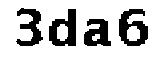3: (12, 4, 43, 50)
6: (115, 5, 151, 51)
a: (81, 16, 113, 48)
d: (46, 6, 79, 49)
